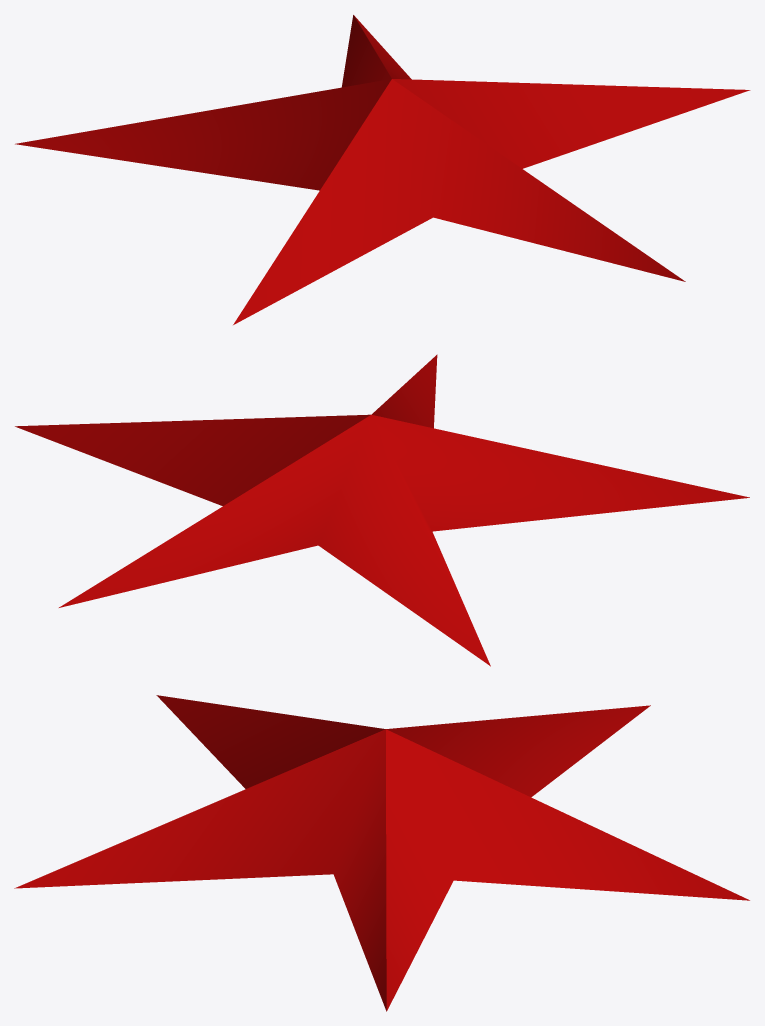
Rendered from Seestern.fbx.
The picture shows the model from 3 angles, top to bottom: view 1: azimuth 30°, elevation 25°; view 2: azimuth 150°, elevation 25°; view 3: azimuth 270°, elevation 25°; orthographic projection. The views are drawn at different scales.
Visible parts, largest first — view 1: pasted__pPyramid1; view 2: pasted__pPyramid1; view 3: pasted__pPyramid1.
Part boxes in pixels (x1,y1,x2,y2): pasted__pPyramid1: (15,15,750,324); pasted__pPyramid1: (15,354,749,666); pasted__pPyramid1: (14,695,749,1011).
Size of the model in its own units: 18.6 by 2.79 by 18.28.
